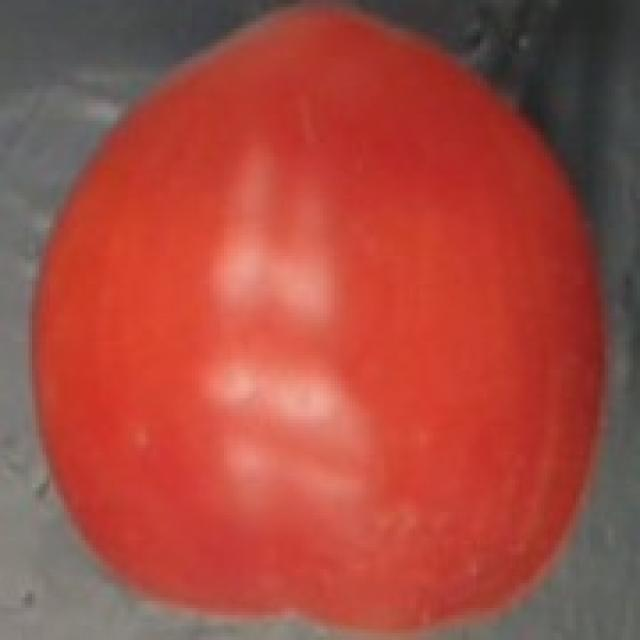ripe tomato: (19, 0, 621, 640)
